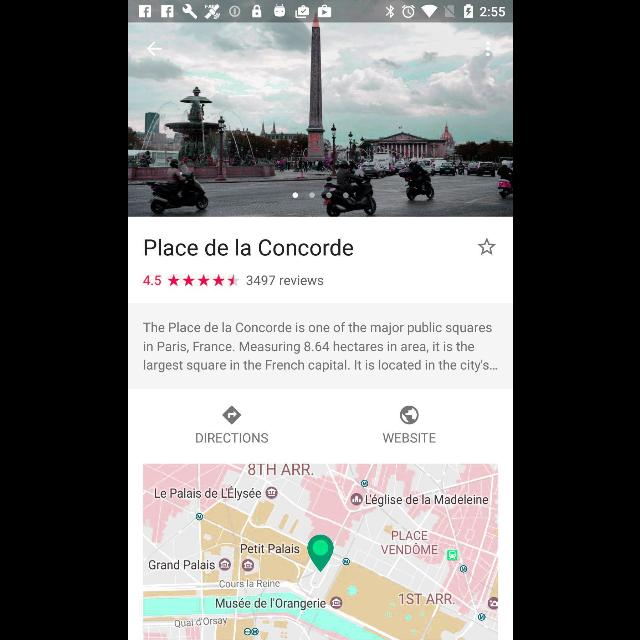icon: (167, 274, 239, 286), (476, 238, 496, 256), (222, 406, 240, 424), (146, 41, 162, 57), (484, 41, 490, 58)
image: (128, 23, 512, 217), (400, 406, 418, 424)
map: (143, 464, 497, 640)
pageindicator: (292, 192, 348, 198)
text: (144, 238, 352, 256), (245, 274, 322, 286), (195, 433, 267, 443), (382, 433, 434, 443), (142, 274, 160, 286)
textbutton: (142, 322, 496, 372)
uppertaskbar: (128, 1, 512, 23)
